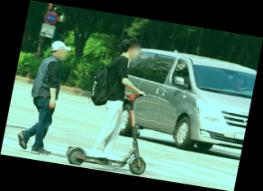nonhelmet: (62, 29, 172, 177)
